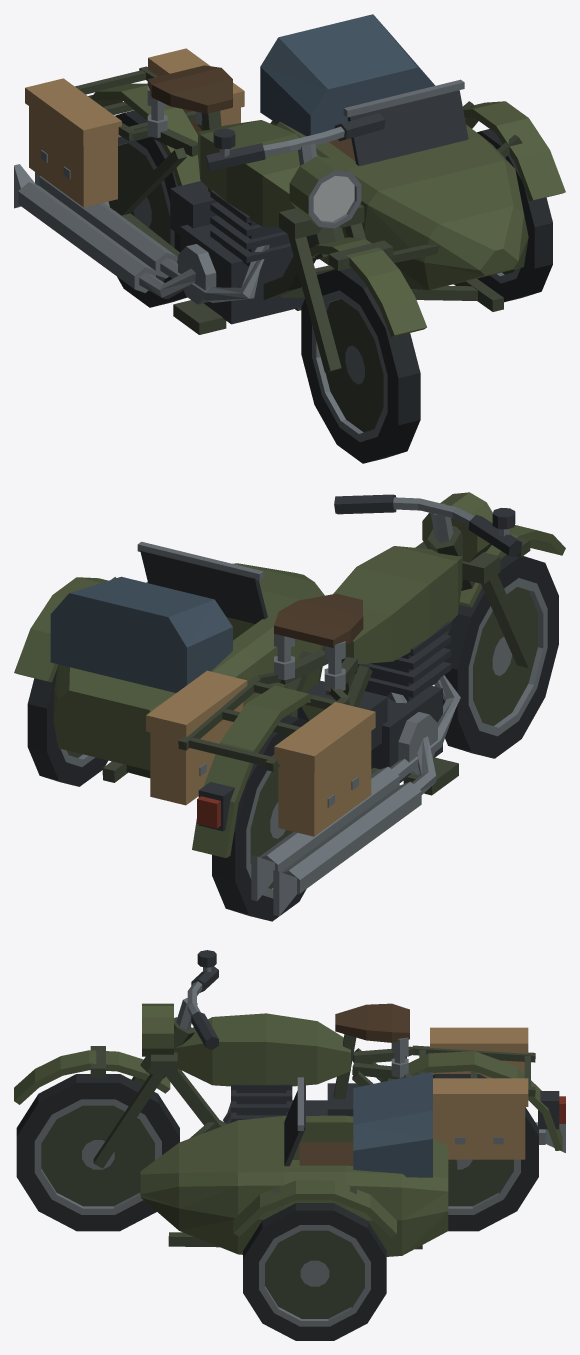
File: motorcycle-and-sidecar-7d39b8.glb
3 views of the same model, one above another, from view 1: azimuth 30°, elevation 25°; view 2: azimuth 150°, elevation 25°; view 3: azimuth 270°, elevation 25° (orthographic). The views are drawn at different scales.
Parts seen in each view (by area): view 1: sidecar-body, motorcycle-body, front-end, tyre-front, stowed-kit, tyre-rear, tyre-sidecar; view 2: motorcycle-body, sidecar-body, stowed-kit, tyre-front, front-end, tyre-rear, tyre-sidecar; view 3: sidecar-body, motorcycle-body, tyre-front, tyre-sidecar, stowed-kit, front-end, tyre-rear.
Boxes of the visible parts, <box> form: sidecar-body: <box>260,14,565,311</box>; motorcycle-body: <box>14,65,344,334</box>; front-end: <box>205,113,426,372</box>; tyre-front: <box>301,268,420,463</box>; stowed-kit: <box>25,48,244,207</box>; tyre-rear: <box>104,110,187,307</box>; tyre-sidecar: <box>477,129,552,302</box>; motorcycle-body: <box>178,526,475,916</box>; sidecar-body: <box>14,541,324,782</box>; stowed-kit: <box>146,670,375,836</box>; tyre-front: <box>435,554,558,758</box>; front-end: <box>334,492,565,667</box>; tyre-rear: <box>212,715,308,921</box>; tyre-sidecar: <box>27,668,108,786</box>; sidecar-body: <box>140,1071,448,1256</box>; motorcycle-body: <box>139,1003,565,1170</box>; tyre-front: <box>16,1074,179,1231</box>; tyre-sidecar: <box>243,1203,386,1340</box>; stowed-kit: <box>430,1027,528,1159</box>; front-end: <box>14,950,218,1168</box>; tyre-rear: <box>433,1074,538,1231</box>.
Bounding box in the file's own units: 1.42 × 1.05 × 2.15.
